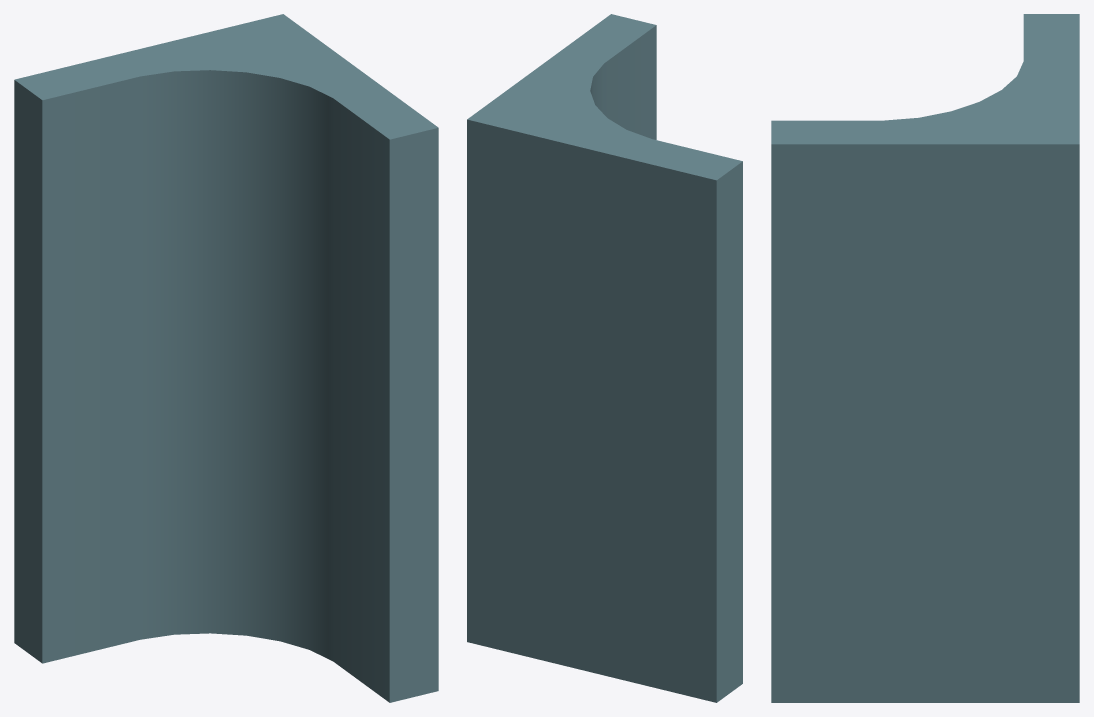
The model's file is W1_WallCorner_Round1B.fbx.
The picture shows the model from 3 angles, left to right: view 1: azimuth 30°, elevation 25°; view 2: azimuth 150°, elevation 25°; view 3: azimuth 270°, elevation 25°; orthographic projection. The views are drawn at different scales.
Visible parts, largest first — view 1: W1_WallCorner_Round1B.001; view 2: W1_WallCorner_Round1B.001; view 3: W1_WallCorner_Round1B.001.
Boxes of the visible parts, x1,y1,x2,y2 form: W1_WallCorner_Round1B.001: (14, 14, 438, 702); W1_WallCorner_Round1B.001: (467, 14, 742, 702); W1_WallCorner_Round1B.001: (771, 14, 1079, 702).
Size of the model in its own units: 1.1 by 2.2 by 1.1.
